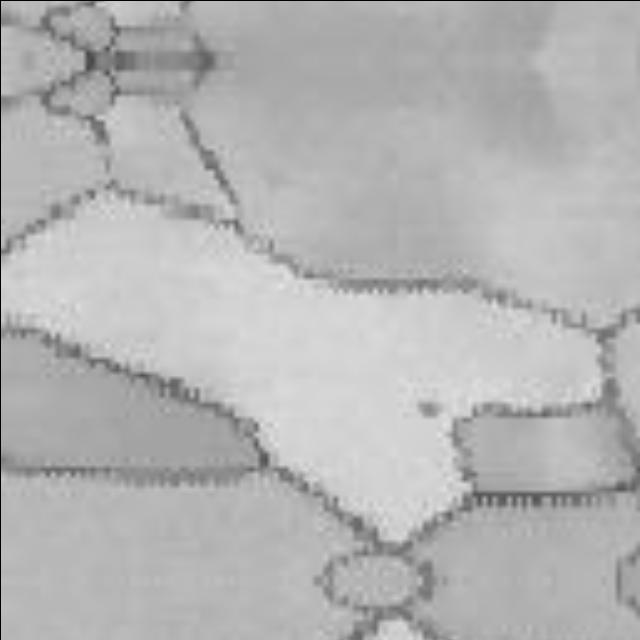good_void: (416, 394, 446, 419)
